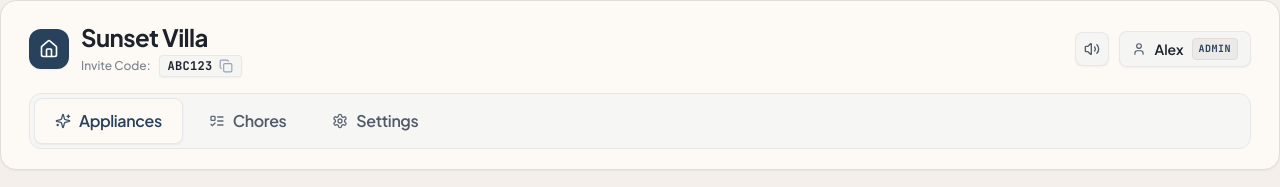
Header Component › copies invite code to clipboard when invite code button is clicked
This screenshot has width=1280, height=187.
Click the button "ABC123" at (200, 66), box [158,55,242,77]
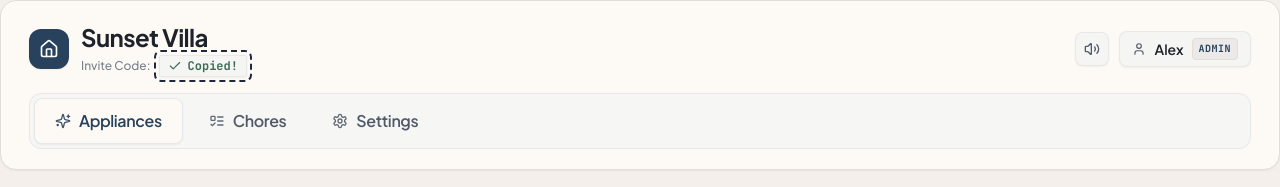
Now the text "Copied!" is shown, box [188,58,238,74]
